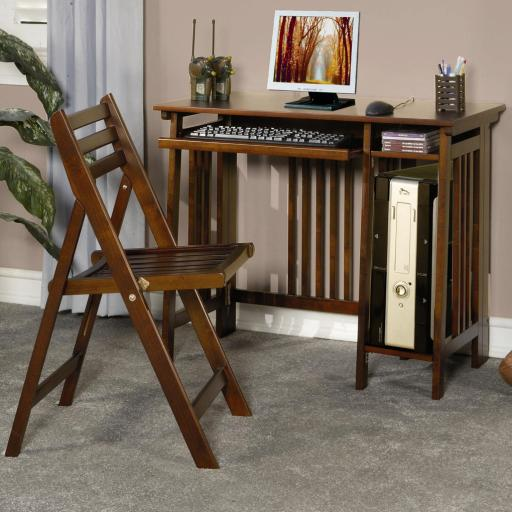chair: (4, 92, 255, 469)
desk: (152, 92, 506, 400)
wall: (0, 0, 512, 359)
